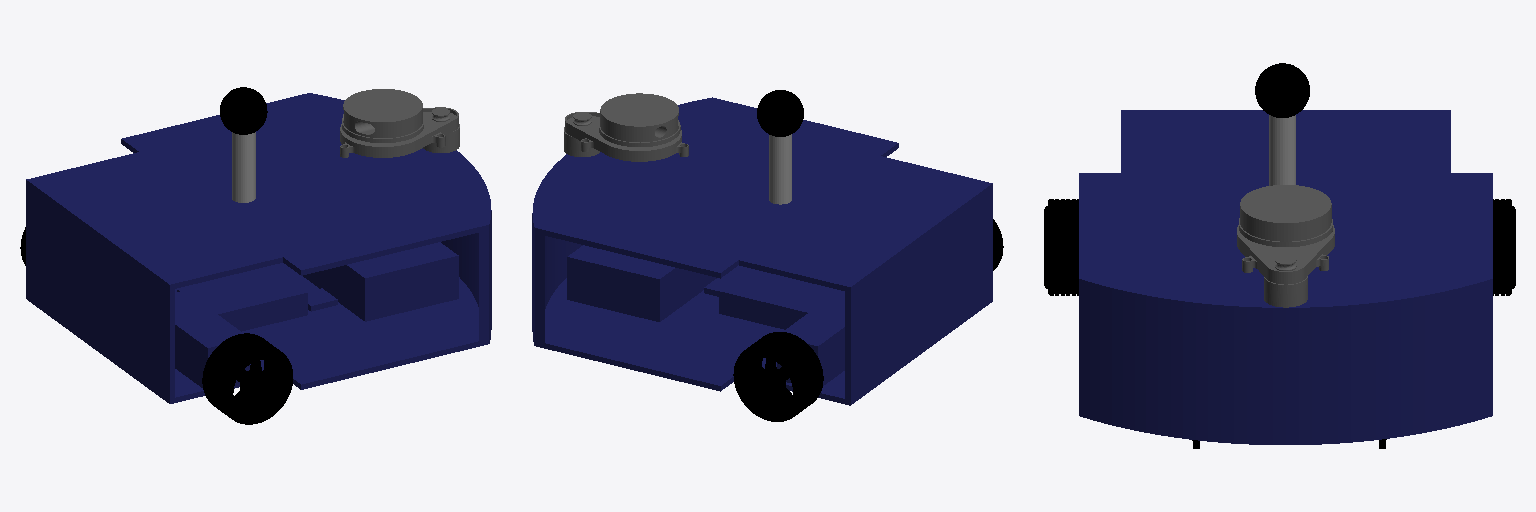
URDF robot description (iam_bot):
<?xml version='1.0' encoding='utf-8'?>
<robot name="iam_bot">

    <material name="CHASIS_BLUE">
        <color rgba="0.153 0.165 0.412 1"/>
    </material>

    <material name="WHEEL_BLACK">
        <color rgba="0 0 0 1"/>
    </material>

    <material name="CASTER_SILVER">
        <color rgba="0.588 0.588 0.588 1"/>
    </material>

    <material name="LIDAR_GREY">
        <color rgba="0.392 0.392 0.392 1"/>
    </material>


    <link name="base_link">
        <inertial>
            <origin xyz="-0.0352454543100275 0.0015824434975905933 0.0771364920636392" rpy="0.0 0.0 0.0" />
            <mass value="2.0727419351057805" />
            <inertia ixx="0.015327537605484913" iyy="0.02905353801933924" izz="0.036748890029141605" ixy="-6.726906072750366e-05" iyz="-3.853568720294155e-05" ixz="-0.00014360474475757536" />
        </inertial>
        <visual name="base_link_visual">
            <origin xyz="0.0 0.0 0.0" rpy="0.0 0.0 0.0" />
            <geometry>
                <mesh filename="package://iam_bot/meshes/base_link.stl" scale="0.001 0.001 0.001" />
            </geometry>
            <material name="CHASIS_BLUE"/>
        </visual>
        <collision name="base_link_collision">
            <origin xyz="0.0 0.0 0.0" rpy="0.0 0.0 0.0" />
            <geometry>
                <mesh filename="package://iam_bot/meshes/base_link_col.stl" scale="0.001 0.001 0.001" />
            </geometry>
        </collision>
    </link>

    <link name="top_lidar_sensor">
        <inertial>
            <origin xyz="-0.05327789373475227 0.00024126358345519656 0.032377558645455516" rpy="0.0 -0.0 0.0" />
            <mass value="0.1901726292898517" />
            <inertia ixx="7.658129060059832e-05" iyy="0.00016331534109439213" izz="0.0001829290977721779" ixy="1.2253270879710772e-06" iyz="-6.807822780407666e-07" ixz="3.150541905402307e-05" />
        </inertial>
        <visual name="top_lidar_sensor_visual">
            <origin xyz="0.141589346450088 0.0002412110450169272 -0.21008005000000002" rpy="4.930380657631324e-32 7.778769097326458e-62 0.0" />
            <geometry>
                <mesh filename="package://iam_bot/meshes/top_lidar_sensor.stl" scale="0.001 0.001 0.001" />
            </geometry>
            <material name="LIDAR_GREY"/>
        </visual>
        <collision name="top_lidar_sensor_collision">
            <origin xyz="-0.05 0 0.03" rpy="0.0 -0.0 0.0" />
            <geometry>
                <box size="0.12 0.072 0.055"/>
            </geometry>
        </collision>
    </link>

    <link name="right_caster_connector">
        <inertial>
            <origin xyz="-0.001405018194140224 2.1056239806860333e-05 0.004221942265253964" rpy="0.0 -0.0 0.0" />
            <mass value="0.003960896655885569" />
            <inertia ixx="1.570316210402406e-07" iyy="1.6777567965894916e-07" izz="1.7443859290327656e-07" ixy="5.709200945051732e-10" iyz="-8.589987253227705e-10" ixz="4.1927853383486225e-08" />
        </inertial>
        <visual name="right_caster_connector_visual">
            <origin xyz="-0.20483935624023442 -0.06500879567077626 0.028580049999999954" rpy="3.141592653589793 -1.2863481996731663e-45 -3.141592653589793" />
            <geometry>
                <mesh filename="package://iam_bot/meshes/right_caster_connector.stl" scale="0.001 0.001 0.001" />
            </geometry>
            <material name="CASTER_SILVER"/>
        </visual>
        <collision name="right_caster_connector_collision">
            <origin xyz="-0.005 0 -0.005" rpy="0.0 -0.0 0.0" />
            <geometry>
                <box size="0.01 0.02 0.01"/>
            </geometry>
        </collision>
    </link>

    <link name="right_caster_wheel">
        <inertial>
            <origin xyz="-8.994579037135964e-10 -1.40024513317627e-09 -0.0037378543732345193" rpy="0.0 5.374300886053738e-138 0.0" />
            <mass value="0.014985308319104898" />
            <inertia ixx="4.385314306446463e-07" iyy="4.3853142697914847e-07" izz="7.995957318039654e-07" ixy="-4.1761948595190552e-53" iyz="-1.6940658945086007e-21" ixz="1.4094628242311558e-18" />
        </inertial>
        <visual name="right_caster_wheel_visual">
            <origin xyz="0.19658999444156117 -0.014060202800490156 0.061258795670776245" rpy="-1.5707963267948966 4.1908235589866305e-31 1.2246467991473515e-16" />
            <geometry>
                <mesh filename="package://iam_bot/meshes/right_caster_wheel.stl" scale="0.001 0.001 0.001" />
            </geometry>
            <material name="WHEEL_BLACK"/>
        </visual>
        <collision name="right_caster_wheel_collision">
            <origin xyz="0 0 0.0025" rpy="0 -0.0 0.0" />
            <geometry>
                <cylinder radius="0.011" length="0.01"/>
            </geometry>
        </collision>
    </link>

    <link name="left_caster_connector">
        <inertial>
            <origin xyz="-0.0014050181941392648 2.1056239806878097e-05 0.004221942265253977" rpy="0.0 -0.0 0.0" />
            <mass value="0.003960896655885583" />
            <inertia ixx="1.5703162104011524e-07" iyy="1.677756796585392e-07" izz="1.7443859290273446e-07" ixy="5.709200946203696e-10" iyz="-8.589987253464874e-10" ixz="4.1927853383415075e-08" />
        </inertial>
        <visual name="left_caster_connector_visual">
            <origin xyz="-0.20483935624023444 0.0699912043292236 0.003580050000000039" rpy="3.141592653589793 -1.4464574968665423e-45 -3.141592653589793" />
            <geometry>
                <mesh filename="package://iam_bot/meshes/left_caster_connector.stl" scale="0.001 0.001 0.001" />
            </geometry>
            <material name="CASTER_SILVER"/>
        </visual>
        <collision name="left_caster_connector_collision">
            <origin xyz="-0.005 0 -0.005" rpy="0.0 -0.0 0.0" />
            <geometry>
                <box size="0.01 0.02 0.01"/>
            </geometry>
        </collision>
    </link>

    <link name="left_caster_wheel">
        <inertial>
            <origin xyz="-8.994579392407331e-10 -1.400245086546903e-09 -0.0037378543732344395" rpy="0.0 -0.0 0.0" />
            <mass value="0.007044049388216182" />
            <inertia ixx="2.0613770434113236e-07" iyy="2.0613770261880267e-07" izz="3.758609236130891e-07" ixy="8.470329472543003e-21" iyz="-2.541098841762901e-21" ixz="7.047314121155779e-19" />
        </inertial>
        <visual name="left_caster_wheel_visual">
            <origin xyz="0.19520284916805397 0.0309184124293078 -0.07374120432922356" rpy="-1.570796326794893 1.0487101509042141e-29 1.2246467991473535e-16" />
            <geometry>
                <mesh filename="package://iam_bot/meshes/left_caster_wheel.stl" scale="0.001 0.001 0.001" />
            </geometry>
            <material name="WHEEL_BLACK"/>
        </visual>
        <collision name="left_caster_wheel_collision">
            <origin xyz="0 0 -0.0025" rpy="0 -0.0 0.0" />
            <geometry>
                <cylinder radius="0.011" length="0.01"/>
            </geometry>
        </collision>
    </link>

    <link name="left_wheel">
        <inertial>
            <origin xyz="-8.568746958559359e-07 1.4811812641379873e-06 0.018754761281871434" rpy="0.0 -0.0 0.0" />
            <mass value="0.5599991469099156" />
            <inertia ixx="0.0002849471864668895" iyy="0.00028495462828476495" izz="0.00044933007774218894" ixy="-1.2132178942044109e-12" iyz="-1.4211056054184018e-08" ixz="8.202990692991942e-09" />
        </inertial>
        <visual name="left_wheel_visual">
            <origin xyz="-1.9665515793576562e-09 1.1877144601157853e-10 4.451904072055868e-09" rpy="3.141592653589793 1.2246467991473532e-16 2.5407181807811967e-33" />
            <geometry>
                <mesh filename="package://iam_bot/meshes/left_wheel.stl" scale="0.001 0.001 0.001" />
            </geometry>
            <material name="WHEEL_BLACK"/>
        </visual>
        <collision name="left_wheel_collision">
            <origin xyz="0 0 0.0275" rpy="3.0065623868209316e-15 9.473267377050172e-16 1.5707963267948957" />
            <geometry>
                <cylinder radius="0.053" length="0.055"/>
            </geometry>
        </collision>
    </link>

    <link name="right_wheel">
        <inertial>
            <origin xyz="-8.566689725597598e-07 1.4809437212459642e-06 0.018754755483734335" rpy="0.0 -0.0 0.0" />
            <mass value="0.559999146909916" />
            <inertia ixx="0.00028494718646688774" iyy="0.0002849546593902824" izz="0.000449330108847696" ixy="-1.2130496260254198e-12" iyz="-1.4211056053280158e-08" ixz="8.205151334414462e-09" />
        </inertial>
        <visual name="right_wheel_visual">
            <origin xyz="0.26999999803344843 -1.1877143712979432e-10 -1.3462330272773216e-09" rpy="3.141592653589793 -0.0 0.0" />
            <geometry>
                <mesh filename="package://iam_bot/meshes/right_wheel.stl" scale="0.001 0.001 0.001" />
            </geometry>
            <material name="WHEEL_BLACK"/>
        </visual>
        <collision name="right_wheel_collision">
            <origin xyz="0 0 0.0275" rpy="3.0065623868209316e-15 9.473267377050172e-16 1.5707963267948957" />
            <geometry>
                <cylinder radius="0.053" length="0.055"/>
            </geometry>
        </collision>
    </link>

    <joint name="top_lidar_fixed" type="fixed">
        <origin xyz="0.12119571000000001 0.00233422 0.14008005" rpy="0.0 -0.0 0.0" />
        <parent link="base_link" />
        <child link="top_lidar_sensor" />
    </joint>

    <joint name="right_caster_connector_revolute" type="continuous">
        <origin xyz="0.07619571 -0.06266578 0.02858005" rpy="3.141592653589793 -0.0 0.0" />
        <parent link="base_link" />
        <child link="right_caster_connector" />
        <axis xyz="0.0 0.0 1.0" />
    </joint>
    <joint name="right_caster_wheel_revolute" type="continuous">
        <origin xyz="-0.008249359999999992 -0.00375 0.014519849999999999" rpy="1.5707963267948966 1.5557538194652854e-61 -2.465190328815662e-32" />
        <parent link="right_caster_connector" />
        <child link="right_caster_wheel" />
        <axis xyz="-2.465190328815662e-32 3.454467422037821e-77 -1.0" />
    </joint>

    <joint name="left_caster_connector_revolute" type="continuous">
        <origin xyz="0.07619571 0.07233422 0.02858005" rpy="3.141592653589793 -0.0 0.0" />
        <parent link="base_link" />
        <child link="left_caster_connector" />
        <axis xyz="0.0 0.0 1.0" />
    </joint>
    <joint name="left_caster_wheel_revolute" type="continuous">
        <origin xyz="-0.008249359999999992 -0.00375 0.014519849999999999" rpy="1.5707963267948966 -0.0 8.49445851048923e-121" />
        <parent link="left_caster_connector" />
        <child link="left_caster_wheel" />
        <axis xyz="8.49445851048923e-121 0.0 -1.0" />
    </joint>

    <joint name="left_wheel_revolute" type="continuous">
        <origin xyz="-0.16448079000000002 0.13288779 0.055330050000000006" rpy="-1.5707963267948968 -0.0 0.0" />
        <parent link="base_link" />
        <child link="left_wheel" />
        <axis xyz="0.0 -2.2204460492503126e-16 1.0" />
    </joint>

    <joint name="right_wheel_revolute" type="continuous">
        <origin xyz="-0.16448079000000002 -0.1367206 0.055330050000000006" rpy="1.5707963267948966 -0.0 0.0" />
        <parent link="base_link" />
        <child link="right_wheel" />
        <axis xyz="0.0 0.0 -1.0" />
    </joint>

    <joint name="camera_pole_fixed" type="fixed">
        <origin xyz="-0.08 0.00 0.18" rpy="0 0 0"/>
        <parent link="base_link"/>
        <child link="camera_pole_link"/>
    </joint>

    <link name="camera_pole_link">
        <inertial>
            <origin xyz="0 0 0" rpy="0 0 0"/>
            <mass value="0.05"/>
            <inertia
            ixx="1e-5" ixy="0" ixz="0"
            iyy="1e-5" iyz="0"
            izz="1e-5"/>
        </inertial>
        <collision>
            <origin xyz="0 0 0" rpy="0 0 0"/>
            <geometry>
            <cylinder radius="0.01" length="0.08"/>
            </geometry>
        </collision>
        <visual>
            <origin xyz="0 0 0" rpy="0 0 0"/>
            <geometry>
            <cylinder radius="0.01" length="0.08"/>
            </geometry>
            <material name="CASTER_SILVER"/>
        </visual>
    </link>

    <joint name="camera_fixed" type="fixed">
        <origin xyz="0 0 0.04" rpy="0 -0.4 0"/>
        <parent link="camera_pole_link"/>
        <child link="camera_link"/>
    </joint>

    <link name="camera_link">
        <inertial>
            <origin xyz="0 0 0" rpy="0 0 0"/>
            <mass value="0.02"/>
            <inertia
            ixx="1e-5" ixy="0" ixz="0"
            iyy="1e-5" iyz="0"
            izz="1e-5"/>
        </inertial>
        <collision>
            <origin xyz="0 0 0" rpy="0 0 0"/>
            <geometry>
            <sphere radius="0.02"/>
            </geometry>
        </collision>
        <visual>
            <origin xyz="0 0 0" rpy="0 0 0"/>
            <geometry>
            <sphere radius="0.02"/>
            </geometry>
            <material name="WHEEL_BLACK"/>
        </visual>
    </link>

    <link name="camera_link_optical">
        <inertial>
            <origin xyz="0 0 0" rpy="0 0 0"/>
            <mass value="0.0001"/>
            <inertia
            ixx="1e-7" ixy="0" ixz="0"
            iyy="1e-7" iyz="0"
            izz="1e-7"/>
        </inertial>
    </link>

    <joint name="camera_optical_joint" type="fixed">
        <origin xyz="0 0 0" rpy="-1.5708 0 -1.5708"/>
        <parent link="camera_link"/>
        <child link="camera_link_optical"/>
    </joint>

    <gazebo reference="camera_link">
        <material>Gazebo/Black</material>
    </gazebo>

    <!--   gz publishers   -->
    <gazebo>
        <plugin filename="gz-sim-diff-drive-system" name="gz::sim::systems::DiffDrive">
            <right_joint>right_wheel_revolute</right_joint>
            <left_joint>left_wheel_revolute</left_joint>

            <wheel_separation>0.27</wheel_separation>
            <wheel_radius>0.053</wheel_radius>

            <max_linear_acceleration>10</max_linear_acceleration>

            <topic>cmd_vel</topic>
        </plugin>

        <plugin
            filename="gz-sim-odometry-publisher-system"
            name="gz::sim::systems::OdometryPublisher">
            <odom_frame>odom</odom_frame>
            <robot_base_frame>base_link</robot_base_frame>
            <odom_publish_frequency>50</odom_publish_frequency>
            <odom_topic>/odom</odom_topic>
            <tf_topic>/tf</tf_topic>
            <dimensions>2</dimensions>
        </plugin>
      
        <plugin filename="gz-sim-joint-state-publisher-system" name="gz::sim::systems::JointStatePublisher">
            <topic>joint_states</topic>
            <joint_name>right_wheel_revolute</joint_name>
            <joint_name>left_wheel_revolute</joint_name>
            <joint_name>right_caster_connector_revolute</joint_name>
            <joint_name>right_caster_wheel_revolute</joint_name>
            <joint_name>left_caster_connector_revolute</joint_name>
            <joint_name>left_caster_wheel_revolute</joint_name>
        </plugin>
    </gazebo>

    <!--   LIDAR   -->
    <gazebo reference='top_lidar_sensor'>
        <sensor name='gpu_lidar' type='gpu_lidar'>
            <pose relative_to='top_lidar_sensor'>0 0 0.1 0 0 0</pose>
            <topic>scan</topic>
            <update_rate>10</update_rate>
            <ray>
                <scan>
                    <horizontal>
                        <samples>300</samples>
                        <resolution>1</resolution>
                        <min_angle>-3.01</min_angle>
                        <max_angle>3.01</max_angle>
                    </horizontal>
                    <vertical>
                        <samples>1</samples>
                        <resolution>0.01</resolution>
                        <min_angle>0</min_angle>
                        <max_angle>0</max_angle>
                    </vertical>
                </scan>
                <range>
                    <min>0.08</min>
                    <max>10.0</max>
                    <resolution>0.01</resolution>
                </range>
            </ray>
            <always_on>1</always_on>
            <visualize>true</visualize>
        </sensor>
    </gazebo>

    <!--   IMU   -->
    <gazebo reference='base_link'>
        <sensor name="imu_sensor" type="imu">
            <always_on>1</always_on>
            <update_rate>1</update_rate>
            <visualize>true</visualize>
            <topic>imu</topic>
        </sensor>
    </gazebo>
  
  <!--   CAMERA   -->
    <gazebo reference="camera_link">
        <sensor name="sim_camera" type="camera">
            <camera>
                <horizontal_fov>1.3962634</horizontal_fov>
                <image>
                    <width>640</width>
                    <height>480</height>
                    <format>R8G8B8</format>
                </image>
                <clip>
                    <near>0.05</near>
                    <far>20.0</far>
                </clip>
                <optical_frame_id>camera_link_optical</optical_frame_id>
                <camera_info_topic>camera/camera_info</camera_info_topic>
            </camera>
            <always_on>1</always_on>
            <update_rate>20</update_rate>
            <topic>camera/image</topic>
        </sensor>
    </gazebo>

</robot>

--- Render facts (derived) ---
Views: 3 orthographic renders of the robot side by side, from view 1: azimuth 30°, elevation 25°; view 2: azimuth 150°, elevation 25°; view 3: azimuth 270°, elevation 25°.
Robot: iam_bot — 11 links, 10 joints (6 continuous, 4 fixed); root link base_link; default pose: every joint at zero.
Links seen in each view (by area): view 1: base_link, top_lidar_sensor, right_wheel, camera_link, camera_pole_link; view 2: base_link, top_lidar_sensor, left_wheel, camera_link, camera_pole_link; view 3: base_link, top_lidar_sensor, right_wheel, camera_link, left_wheel, camera_pole_link.
Link boxes in pixels (bbox=[...]): base_link: bbox=[26, 93, 491, 403]; top_lidar_sensor: bbox=[340, 89, 459, 157]; right_wheel: bbox=[202, 333, 292, 424]; camera_link: bbox=[220, 87, 267, 134]; camera_pole_link: bbox=[232, 132, 255, 202]; base_link: bbox=[532, 97, 992, 405]; top_lidar_sensor: bbox=[564, 93, 688, 161]; left_wheel: bbox=[733, 332, 823, 421]; camera_link: bbox=[757, 90, 803, 136]; camera_pole_link: bbox=[769, 134, 791, 204]; base_link: bbox=[1079, 110, 1492, 444]; top_lidar_sensor: bbox=[1237, 185, 1334, 307]; right_wheel: bbox=[1044, 199, 1078, 295]; camera_link: bbox=[1255, 63, 1309, 117]; left_wheel: bbox=[1493, 199, 1515, 295]; camera_pole_link: bbox=[1269, 115, 1295, 185].
Size in the robot's own frame: 0.3459 by 0.3416 by 0.2364 metres.
8 mesh visuals loaded from 8 distinct referenced files (8 binary STL).
